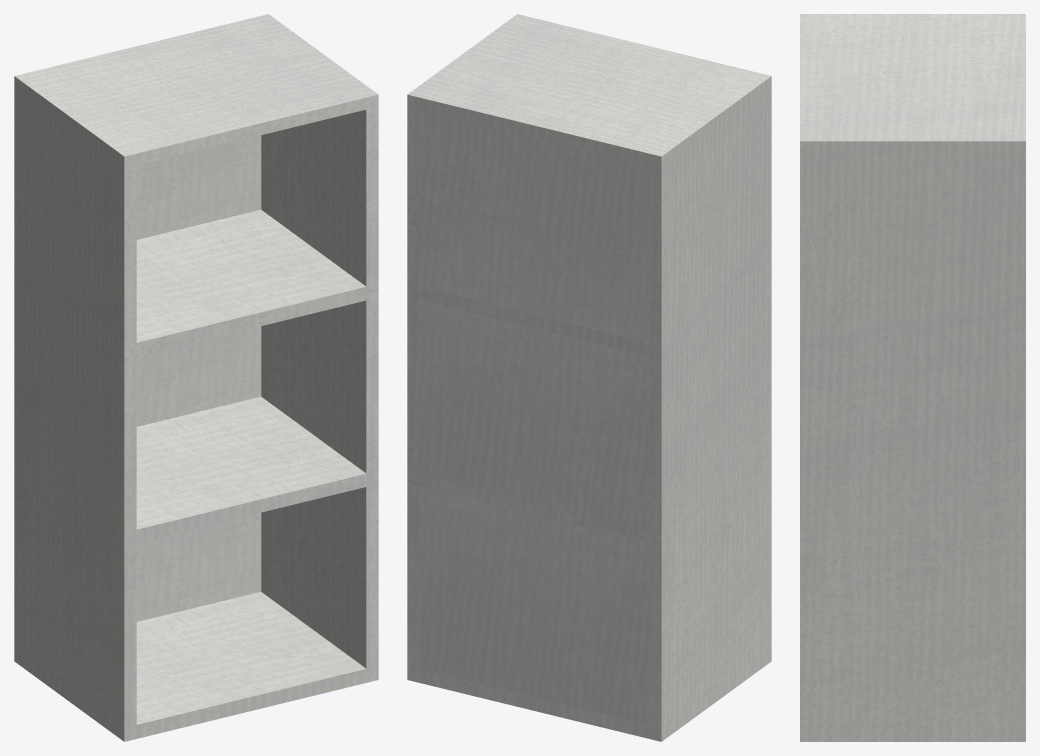
The model's file is storageBox.glb.
3 views of the same model, side by side, from view 1: azimuth 30°, elevation 25°; view 2: azimuth 150°, elevation 25°; view 3: azimuth 270°, elevation 25° (orthographic). The views are drawn at different scales.
Parts seen in each view (by area): view 1: storageBox; view 2: storageBox; view 3: storageBox.
Part boxes in pixels (<box>): storageBox: <box>14,14,378,741</box>; storageBox: <box>407,14,771,741</box>; storageBox: <box>800,14,1025,741</box>.
Bounding box in the file's own units: 0.4 × 0.88 × 0.3.
1 material, 1 textured.
